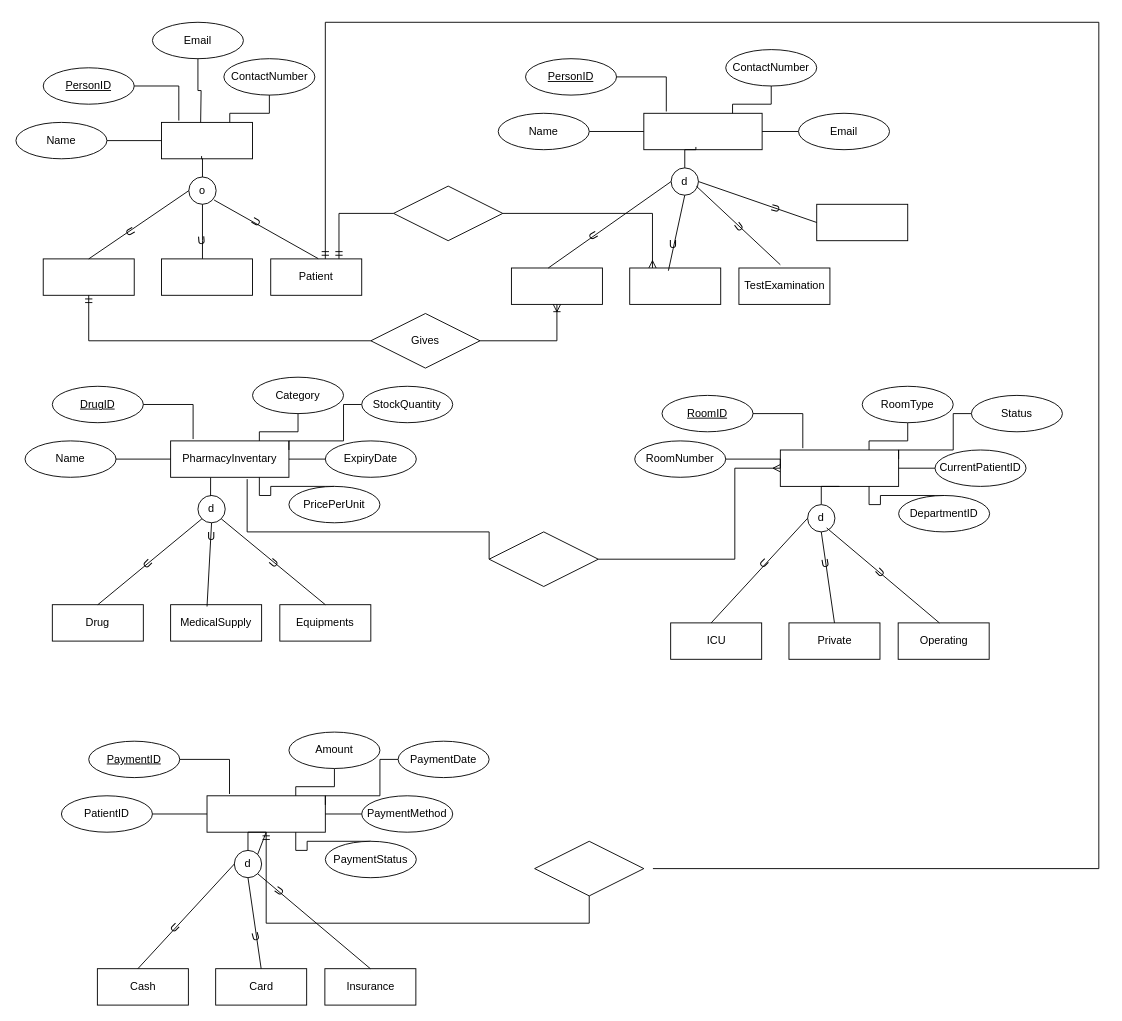
Some shapes in this 1122 by 1021 pixel diagram are drawn without their labels. The shapes that lost their labels are listed below. From the top down, each one's box as (x1, y1, x2, y2) in pixels, then its label:
(161, 121, 253, 159): Person
(643, 112, 762, 150): MedicalTransactions
(393, 185, 503, 241): HAs
(816, 203, 908, 241): Prescription
(42, 258, 134, 295): Doctor
(161, 258, 253, 295): Staff
(511, 267, 602, 304): Appointment
(629, 267, 721, 304): MedicalRecord
(779, 449, 899, 486): Room
(488, 531, 598, 586): Store ANd use
(206, 795, 325, 832): Payments
(534, 840, 644, 896): Relationship
